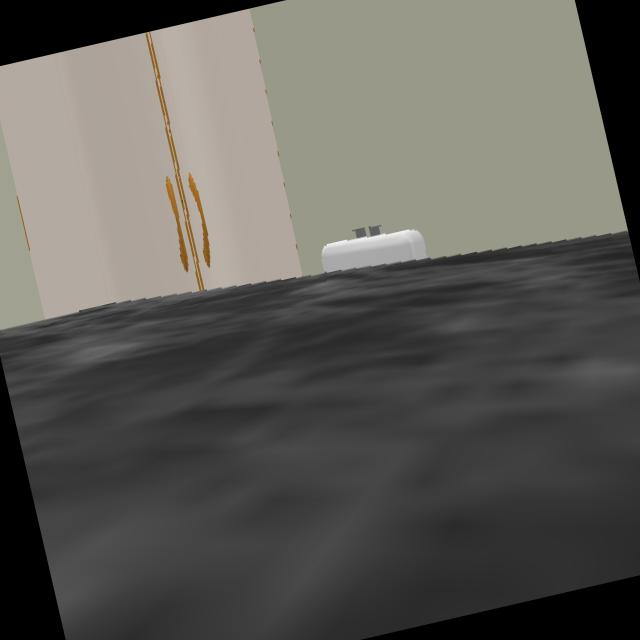shower: (0, 8, 302, 318)
toilet: (321, 225, 430, 275)
